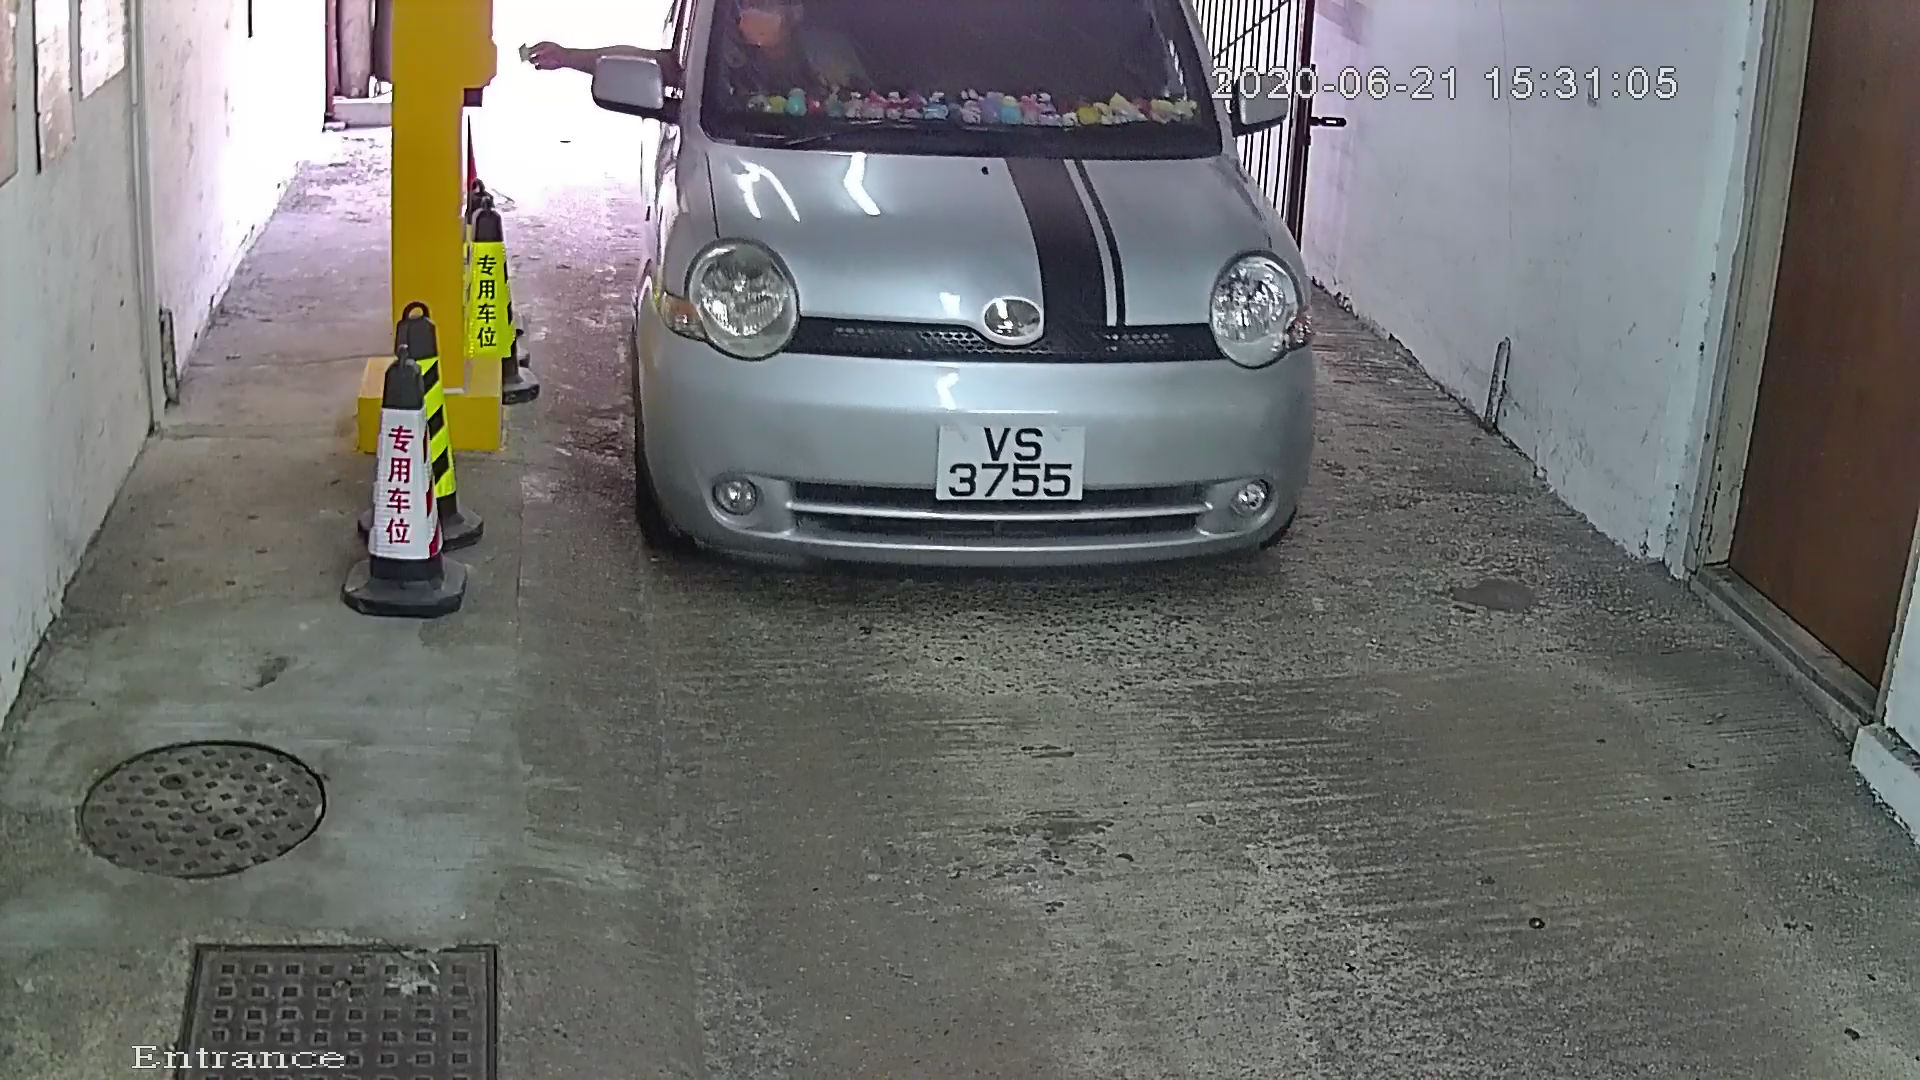privatecar: (578, 1, 1357, 616)
